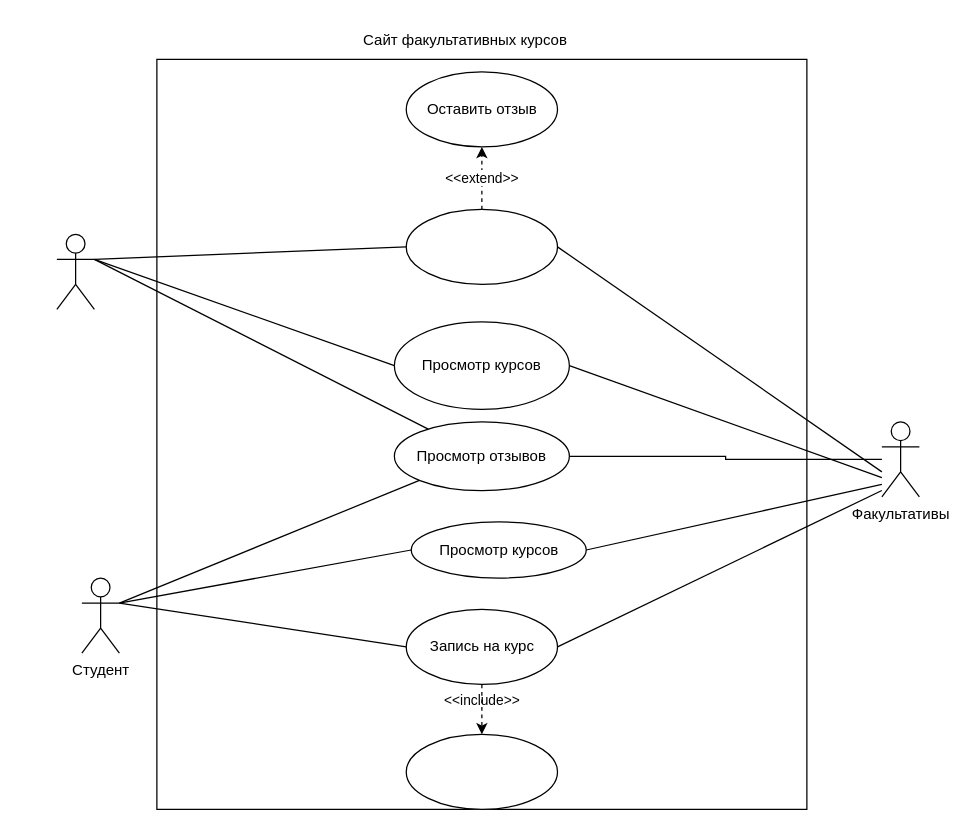
This 971x831 diagram has some shape labels left out. The shapes that lost their labels are listed below. From the top down, each one's centre as x and y in pixels, then its label:
(481,246): Вести курс
(75,271): Преподаватель
(481,771): Курс
